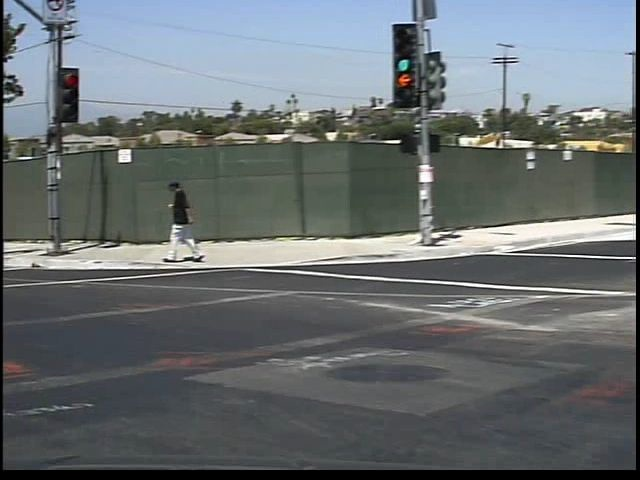person: (150, 176, 198, 280)
